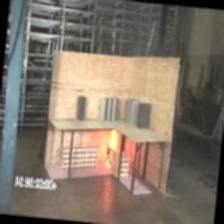fire: (101, 125, 124, 155)
